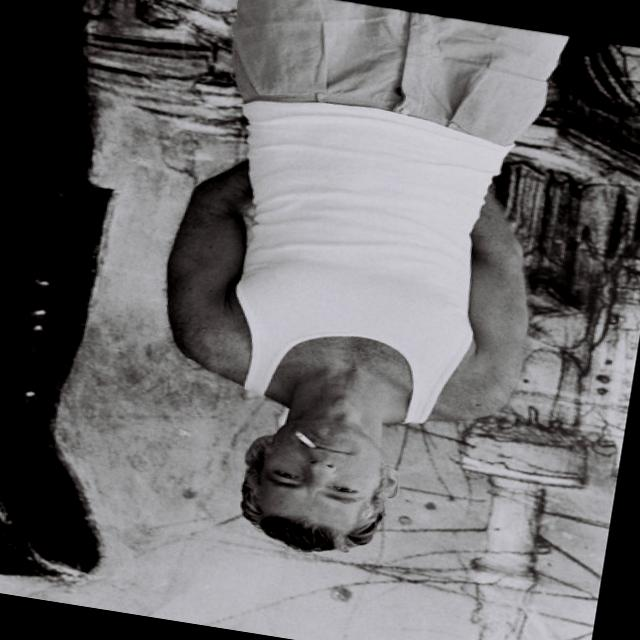smoke: (287, 417, 324, 459)
